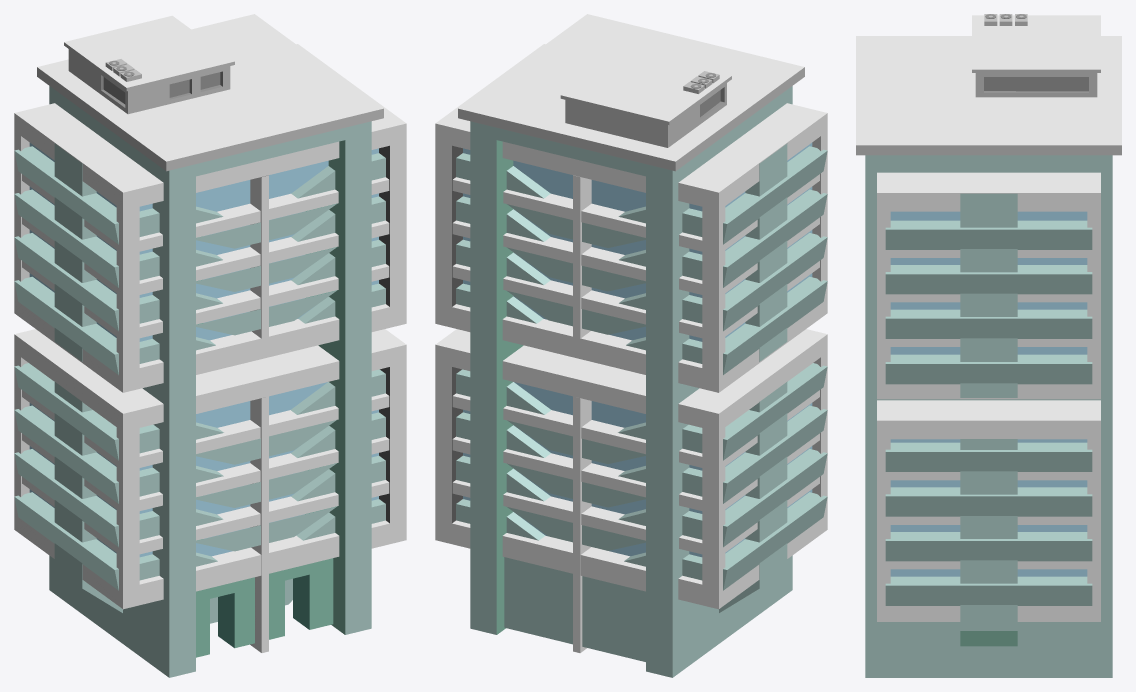
File: house_high_003.fbx
3 renders of one model, left to right at view 1: azimuth 30°, elevation 25°; view 2: azimuth 150°, elevation 25°; view 3: azimuth 270°, elevation 25°, orthographic. The views are drawn at different scales.
Parts seen in each view (by area): view 1: house_high_003; view 2: house_high_003; view 3: house_high_003.
Part boxes in pixels (bbox=[...]): house_high_003: bbox=[14, 14, 406, 677]; house_high_003: bbox=[435, 14, 827, 677]; house_high_003: bbox=[856, 14, 1121, 677].
Size of the model in its own units: 1541 by 2810 by 1181.
